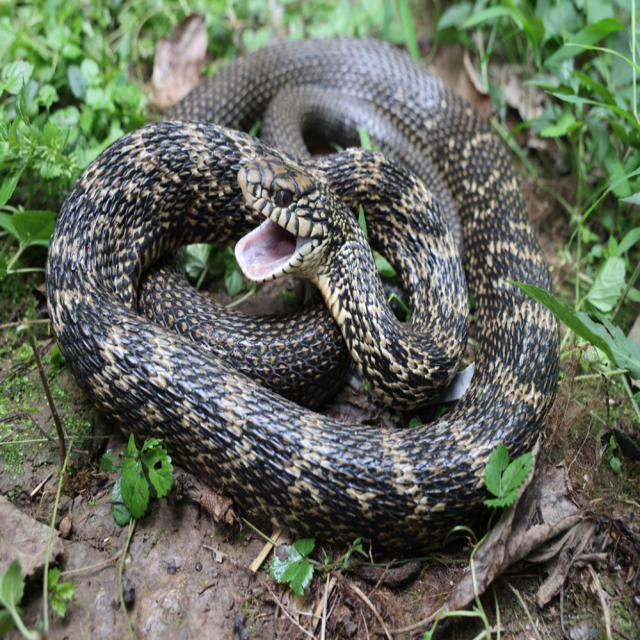Snake: (38, 27, 572, 579)
